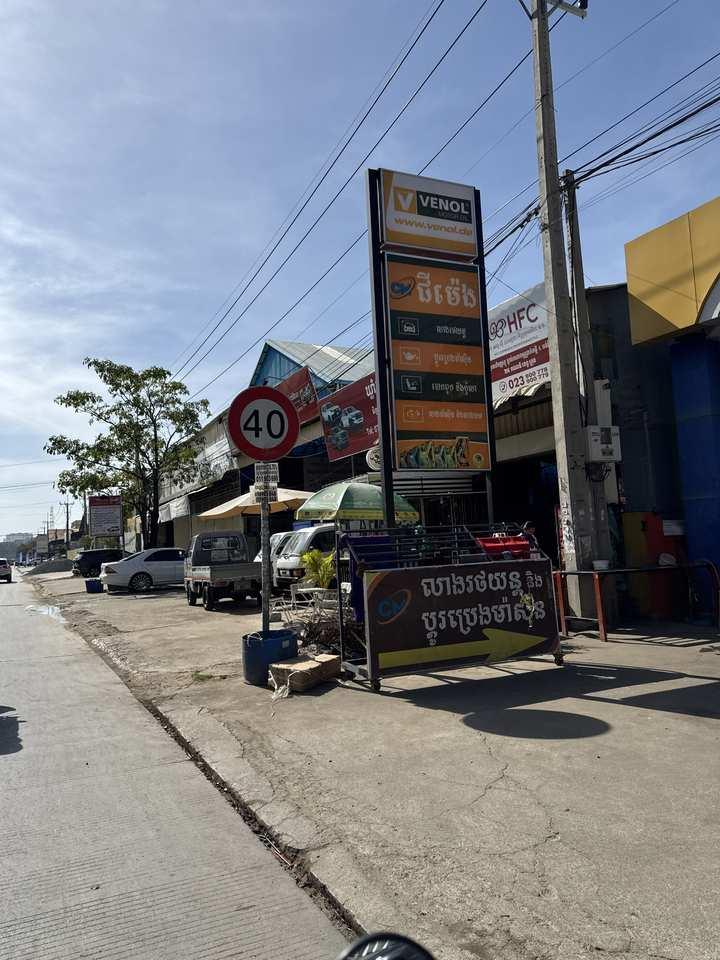speed_limit_40: (225, 386, 301, 463)
